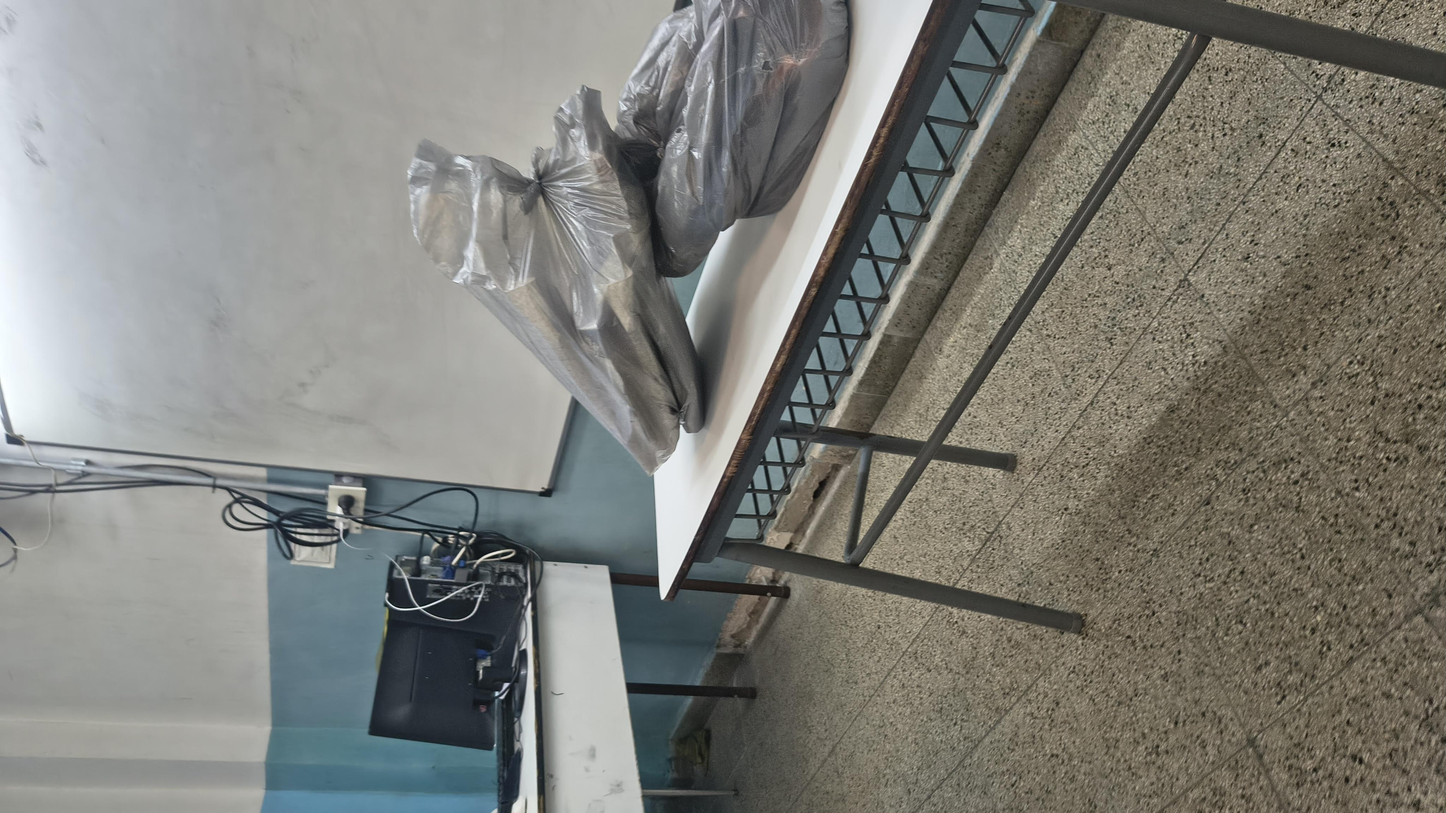Garbage: (571, 212, 1305, 409), (992, 320, 1446, 482)
